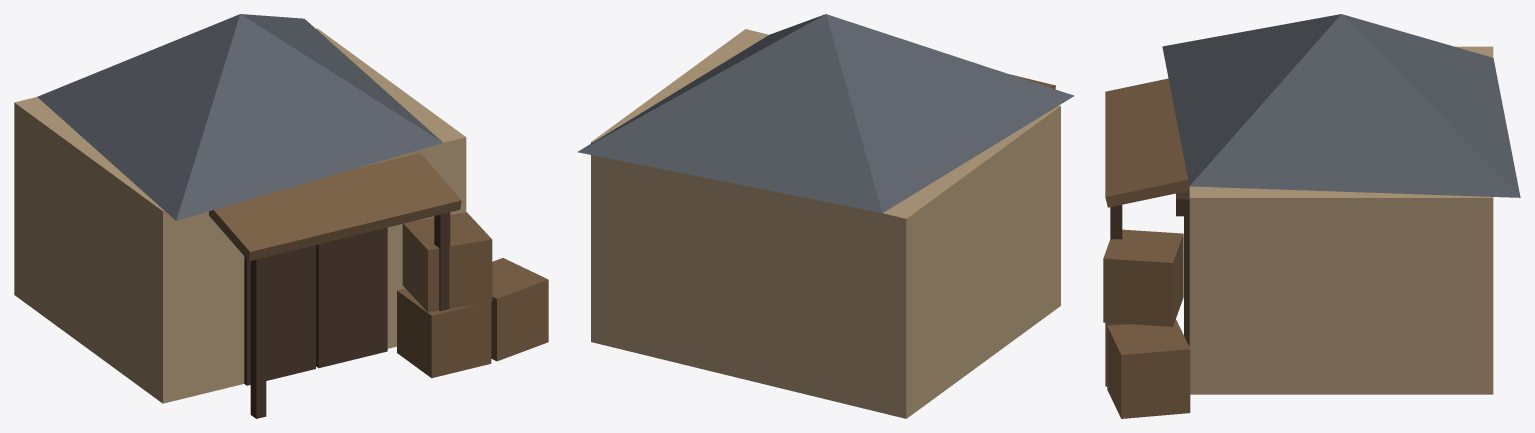
Rendered from era2-warehouse-COPOun0Z.glb.
The picture shows the model from 3 angles, left to right: view 1: azimuth 30°, elevation 25°; view 2: azimuth 150°, elevation 25°; view 3: azimuth 270°, elevation 25°; orthographic projection. The views are drawn at different scales.
Visible parts, largest first — view 1: CrateWarehouse_Body, CrateWarehouse_Roof, CrateWarehouse_Canopy, CrateWarehouse_DoorR, CrateWarehouse_DoorL, CrateWarehouse_CrateB1, CrateWarehouse_CrateA1, CrateWarehouse_CrateA2, CrateWarehouse_CanopyPostL, CrateWarehouse_CanopyPostR; view 2: CrateWarehouse_Body, CrateWarehouse_Roof; view 3: CrateWarehouse_Body, CrateWarehouse_Roof, CrateWarehouse_Canopy, CrateWarehouse_CrateA2, CrateWarehouse_CrateB1, CrateWarehouse_DoorR, CrateWarehouse_CanopyPostR.
Part boxes in pixels (x1,y1,x2,y2): CrateWarehouse_Body: [14, 28, 466, 403]; CrateWarehouse_Roof: [37, 14, 442, 220]; CrateWarehouse_Canopy: [209, 153, 461, 261]; CrateWarehouse_DoorR: [316, 227, 387, 368]; CrateWarehouse_DoorL: [244, 245, 315, 385]; CrateWarehouse_CrateB1: [402, 212, 492, 312]; CrateWarehouse_CrateA1: [397, 288, 491, 378]; CrateWarehouse_CrateA2: [491, 258, 548, 361]; CrateWarehouse_CanopyPostL: [250, 257, 266, 418]; CrateWarehouse_CanopyPostR: [434, 212, 450, 311]; CrateWarehouse_Body: [591, 29, 1060, 418]; CrateWarehouse_Roof: [577, 14, 1074, 212]; CrateWarehouse_Body: [1189, 46, 1493, 394]; CrateWarehouse_Roof: [1162, 14, 1520, 197]; CrateWarehouse_Canopy: [1105, 78, 1189, 207]; CrateWarehouse_CrateA2: [1107, 320, 1190, 418]; CrateWarehouse_CrateB1: [1103, 229, 1183, 326]; CrateWarehouse_DoorR: [1184, 216, 1189, 346]; CrateWarehouse_CanopyPostR: [1110, 205, 1122, 239].
Bounding box in the file's own units: 7.67 × 6.2 × 7.69.
